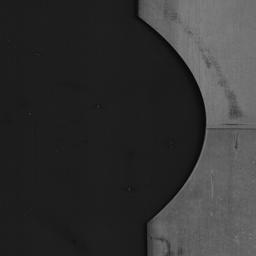Crescent gap: (143, 20, 206, 222)
